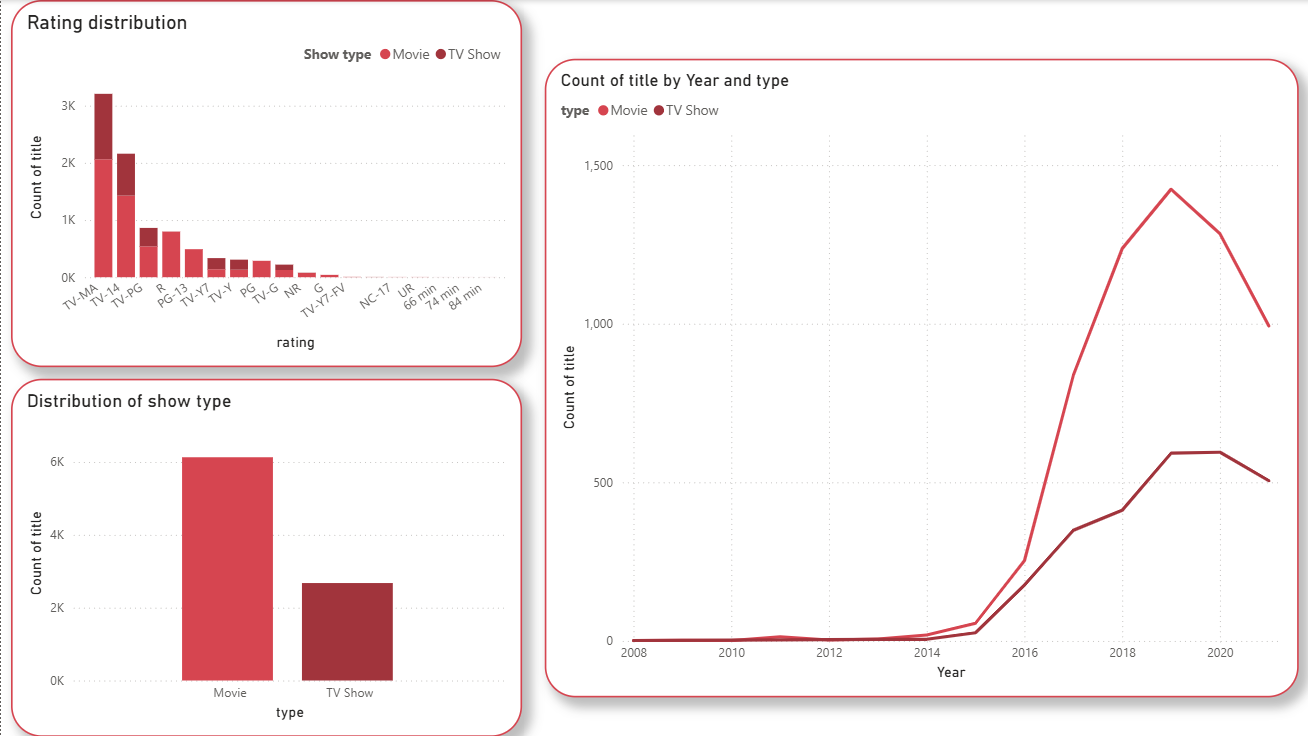

The dashboard page shown, as its layout file describes it:
{"tool":"powerbi","page":{"name":"Page 3","canvas":[1280,720],"ordinal":2},"visuals":[{"type":"columnChart","title":"Rating distribution","fields":{"Category":["netflix_titles.rating"],"Y":["CountNonNull(netflix_titles.title)"],"Series":["netflix_titles.type"]},"box":[9.8,0,500.1,359.5],"z":0},{"type":"clusteredColumnChart","title":"Distribution of show type","fields":{"Category":["netflix_titles.type"],"Y":["CountNonNull(netflix_titles.title)"]},"box":[10,370,500,350],"z":1000},{"type":"lineChart","fields":{"Category":["netflix_titles.date_added.Variation.Date Hierarchy.Year"],"Y":["CountNonNull(netflix_titles.title)"],"Series":["netflix_titles.type"]},"box":[531.9,57.5,737.4,624.9],"z":2000}]}

Visuals, with their boxes in screenshot pixels (x1, y1, x2, y2), scaled from the page's 1280x720 canvas onto the 1308x736 screenshot:
"Rating distribution" columnChart: [x1=10, y1=0, x2=521, y2=367]
"Distribution of show type" clusteredColumnChart: [x1=10, y1=378, x2=521, y2=735]
lineChart - netflix_titles.date_added.Variation.Date Hierarchy.Year x CountNonNull(netflix_titles.title): [x1=544, y1=59, x2=1297, y2=698]
